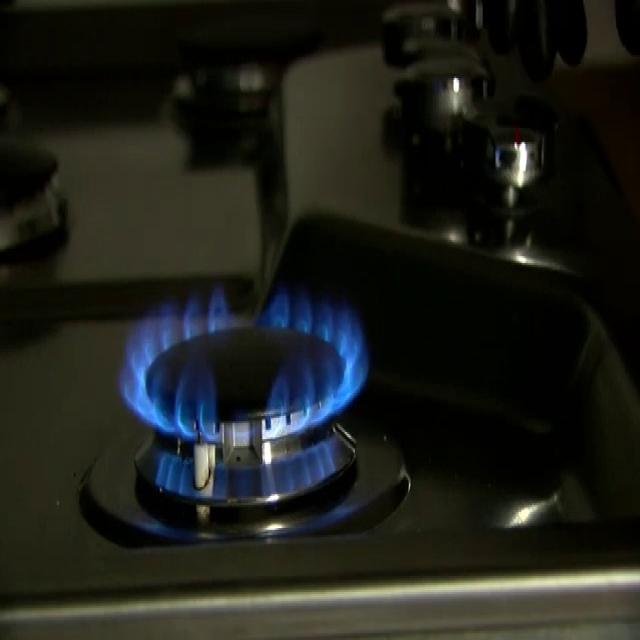fire: (102, 185, 414, 556)
